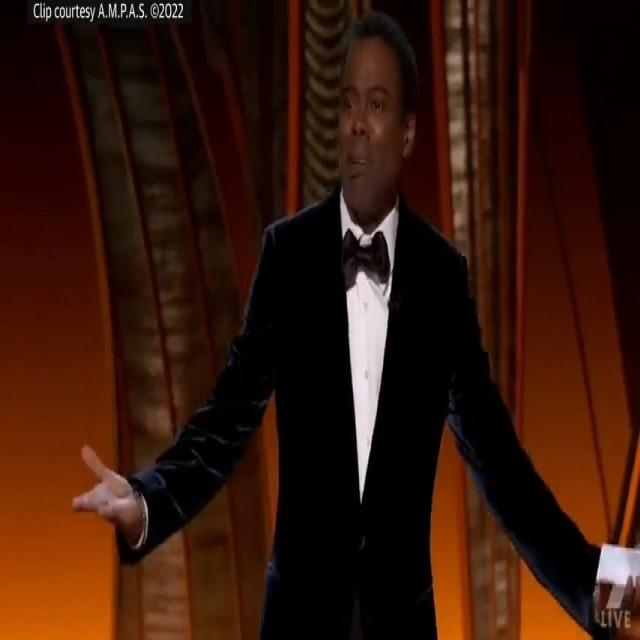non-fight: (67, 1, 640, 639)
